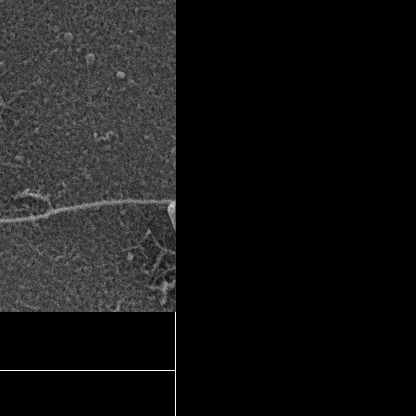cell2cell: (0, 200, 166, 267)
regular: (166, 202, 174, 222)
